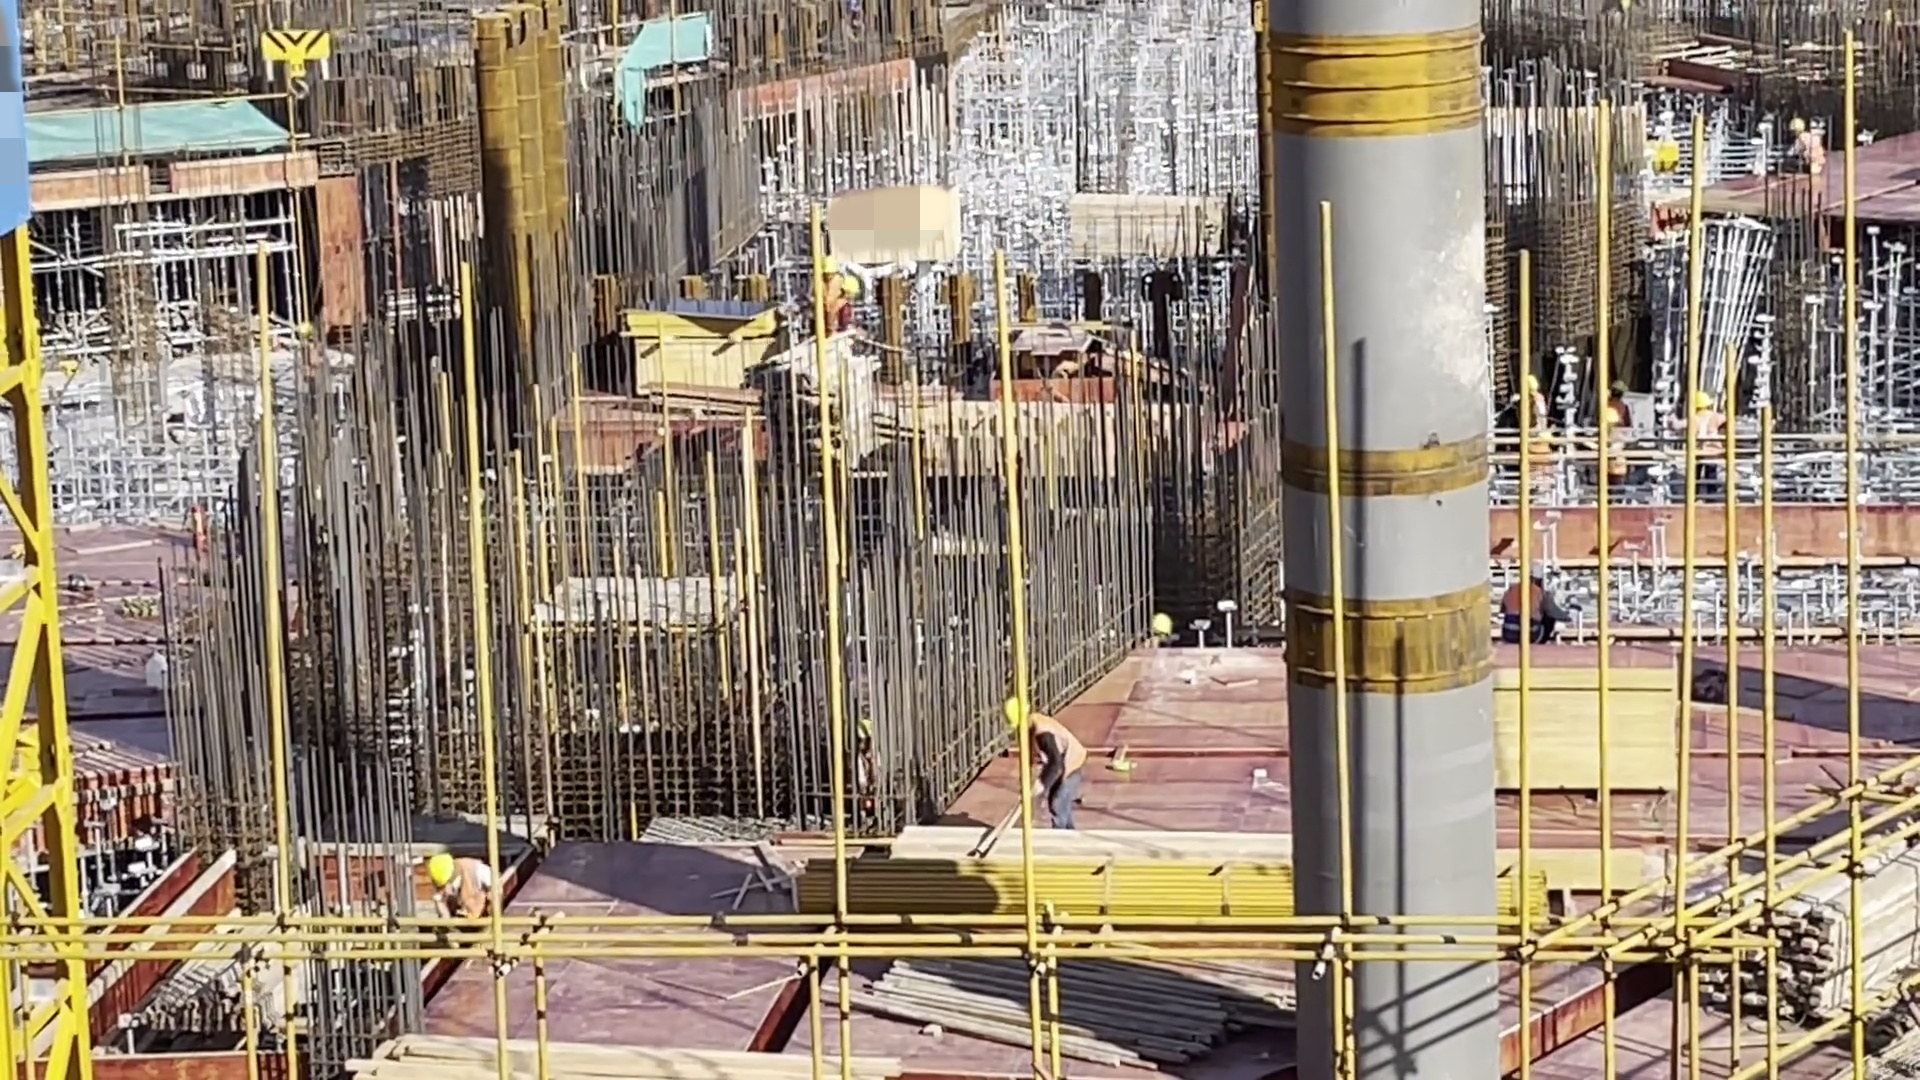helmet: (834, 269, 869, 307), (421, 848, 459, 883), (991, 689, 1025, 723), (1687, 390, 1713, 419), (1604, 369, 1628, 398), (1790, 108, 1808, 142), (816, 256, 839, 282), (1525, 560, 1549, 583), (1517, 369, 1542, 392)
person: (993, 698, 1092, 835), (792, 249, 881, 355), (1496, 363, 1560, 476), (409, 851, 494, 921), (1498, 567, 1565, 645), (1678, 393, 1730, 486), (1599, 380, 1633, 488), (1781, 118, 1826, 171)
vest: (1034, 716, 1079, 778), (451, 865, 493, 918)
